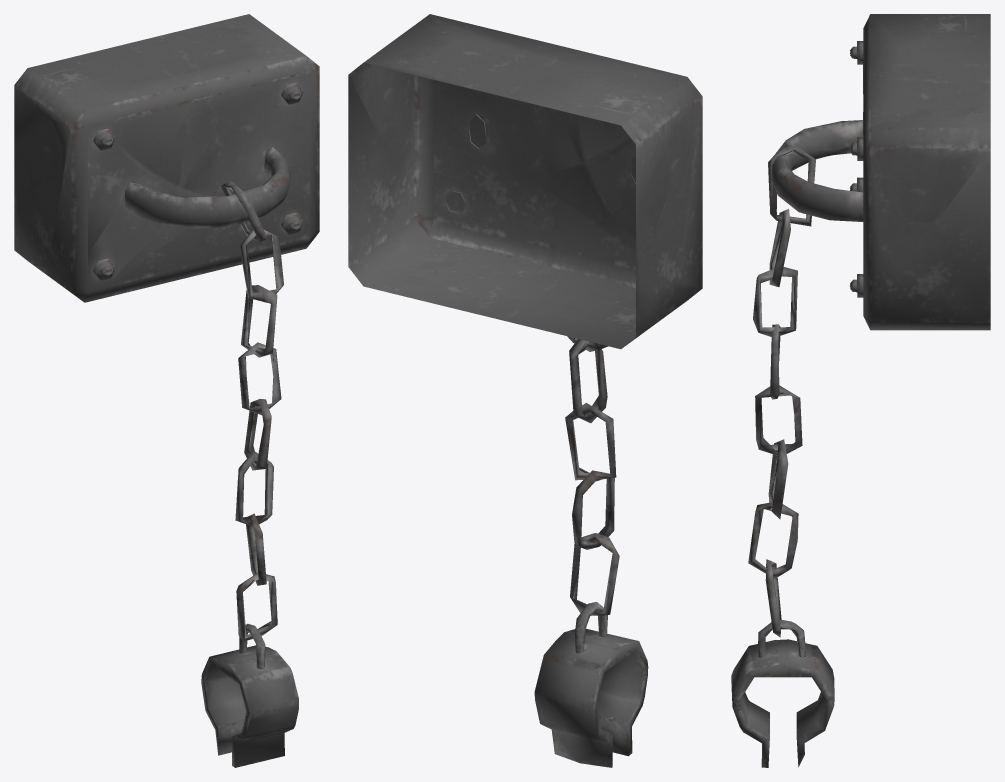
File: ion2.FBX
3 views of the same model, side by side, from view 1: azimuth 30°, elevation 25°; view 2: azimuth 150°, elevation 25°; view 3: azimuth 270°, elevation 25° (orthographic). The views are drawn at different scales.
Parts seen in each view (by area): view 1: Group30838; view 2: Group30838; view 3: Group30838.
Part boxes in pixels (x1,y1,x2,y2): Group30838: (14,14,319,767); Group30838: (348,14,702,767); Group30838: (731,14,990,767).
Size of the model in its own units: 388 by 962 by 334.
Materials: 1 (1 with a texture image).
